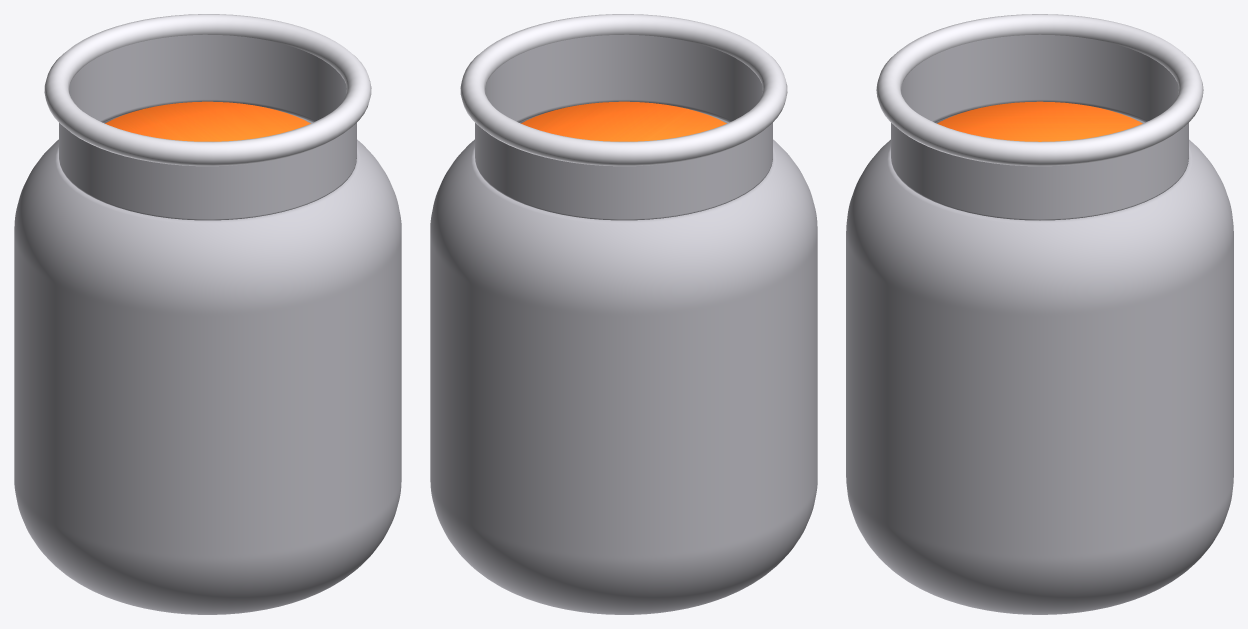
The model's file is lo-jar.glb.
3 views of the same model, side by side, from view 1: azimuth 30°, elevation 25°; view 2: azimuth 150°, elevation 25°; view 3: azimuth 270°, elevation 25° (orthographic).
Visible parts, largest first — view 1: lo-jar, vanh-jar, tranh-jar; view 2: lo-jar, vanh-jar, tranh-jar; view 3: lo-jar, vanh-jar, tranh-jar.
Boxes of the visible parts, x1,y1,x2,y2 form: lo-jar: (14,34,401,614); vanh-jar: (44,14,371,166); tranh-jar: (105,101,310,141); lo-jar: (430,34,817,614); vanh-jar: (460,14,787,166); tranh-jar: (521,101,726,141); lo-jar: (846,34,1233,614); vanh-jar: (876,14,1203,166); tranh-jar: (937,101,1142,141).
Size of the model in its own units: 0.692 by 0.958 by 0.692.
Materials: 3 (1 with a texture image).
